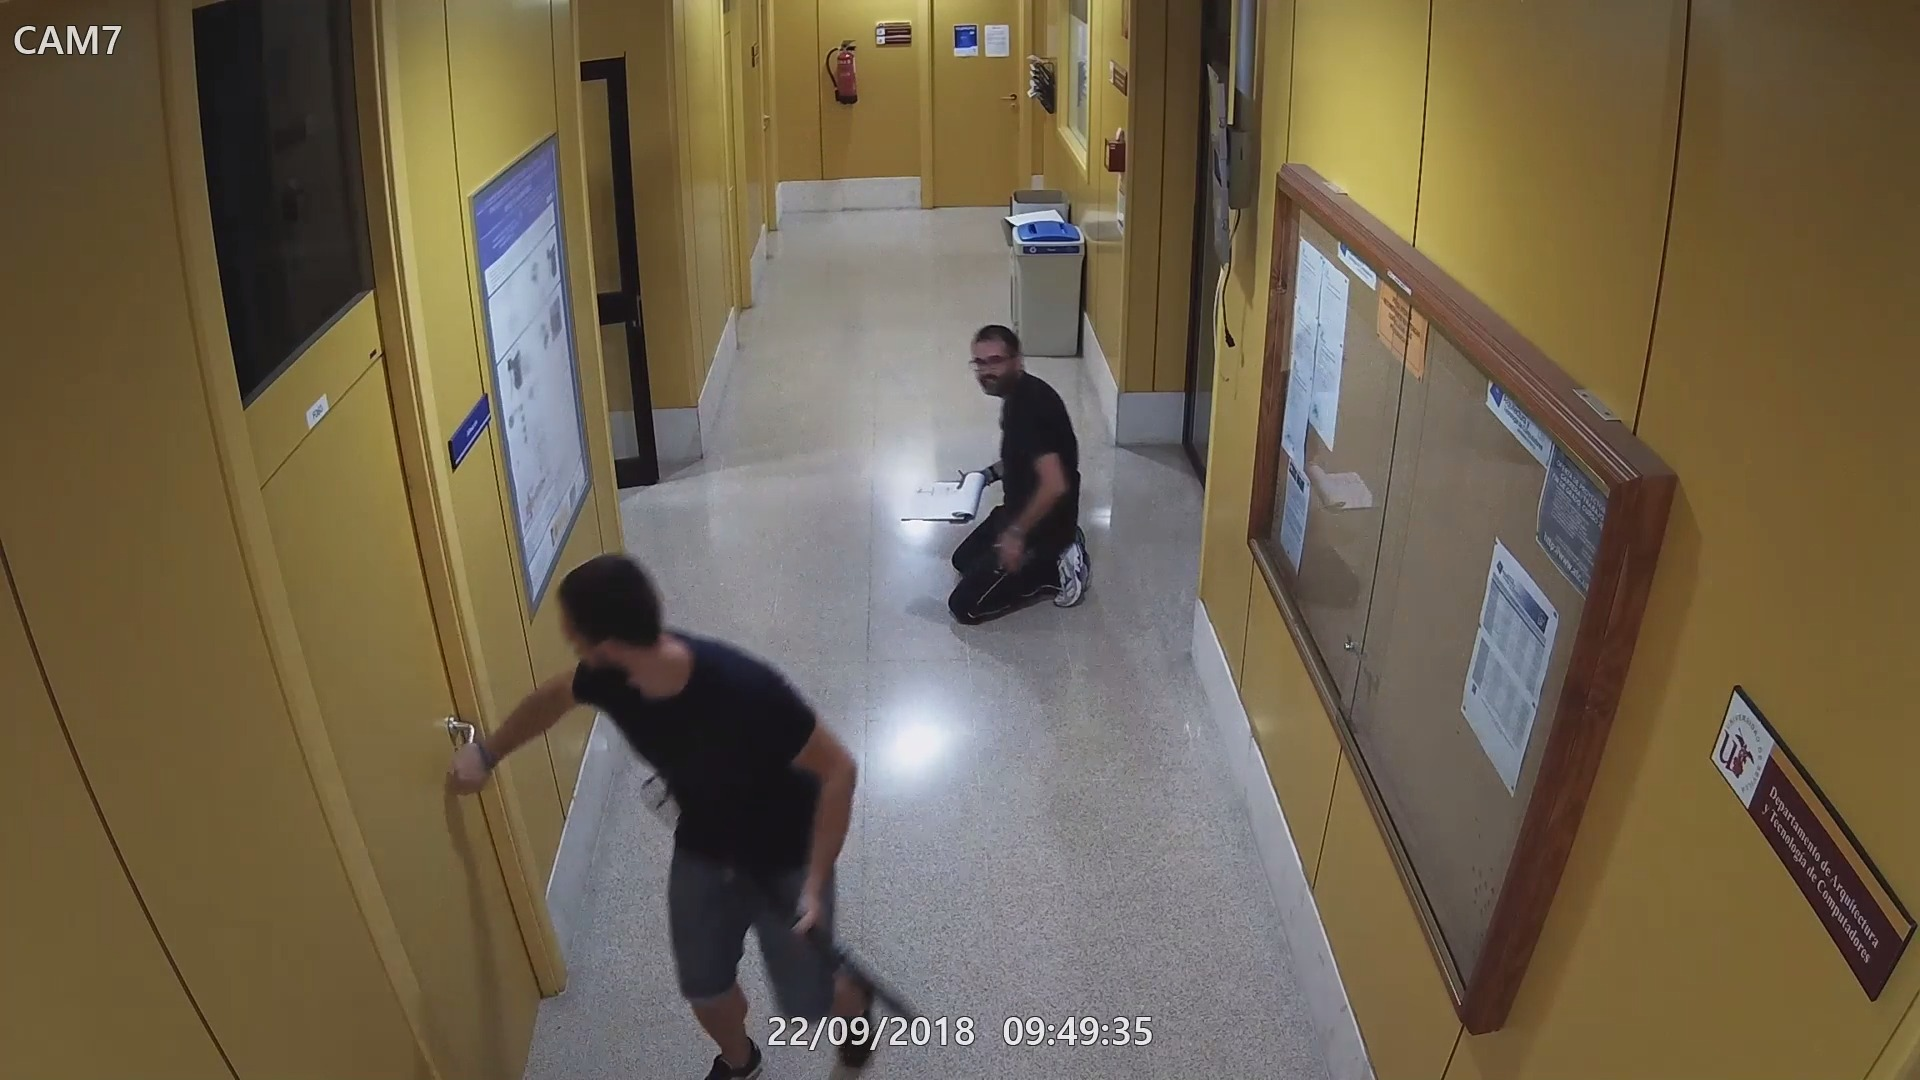Short_rifle: (636, 765, 916, 1017)
